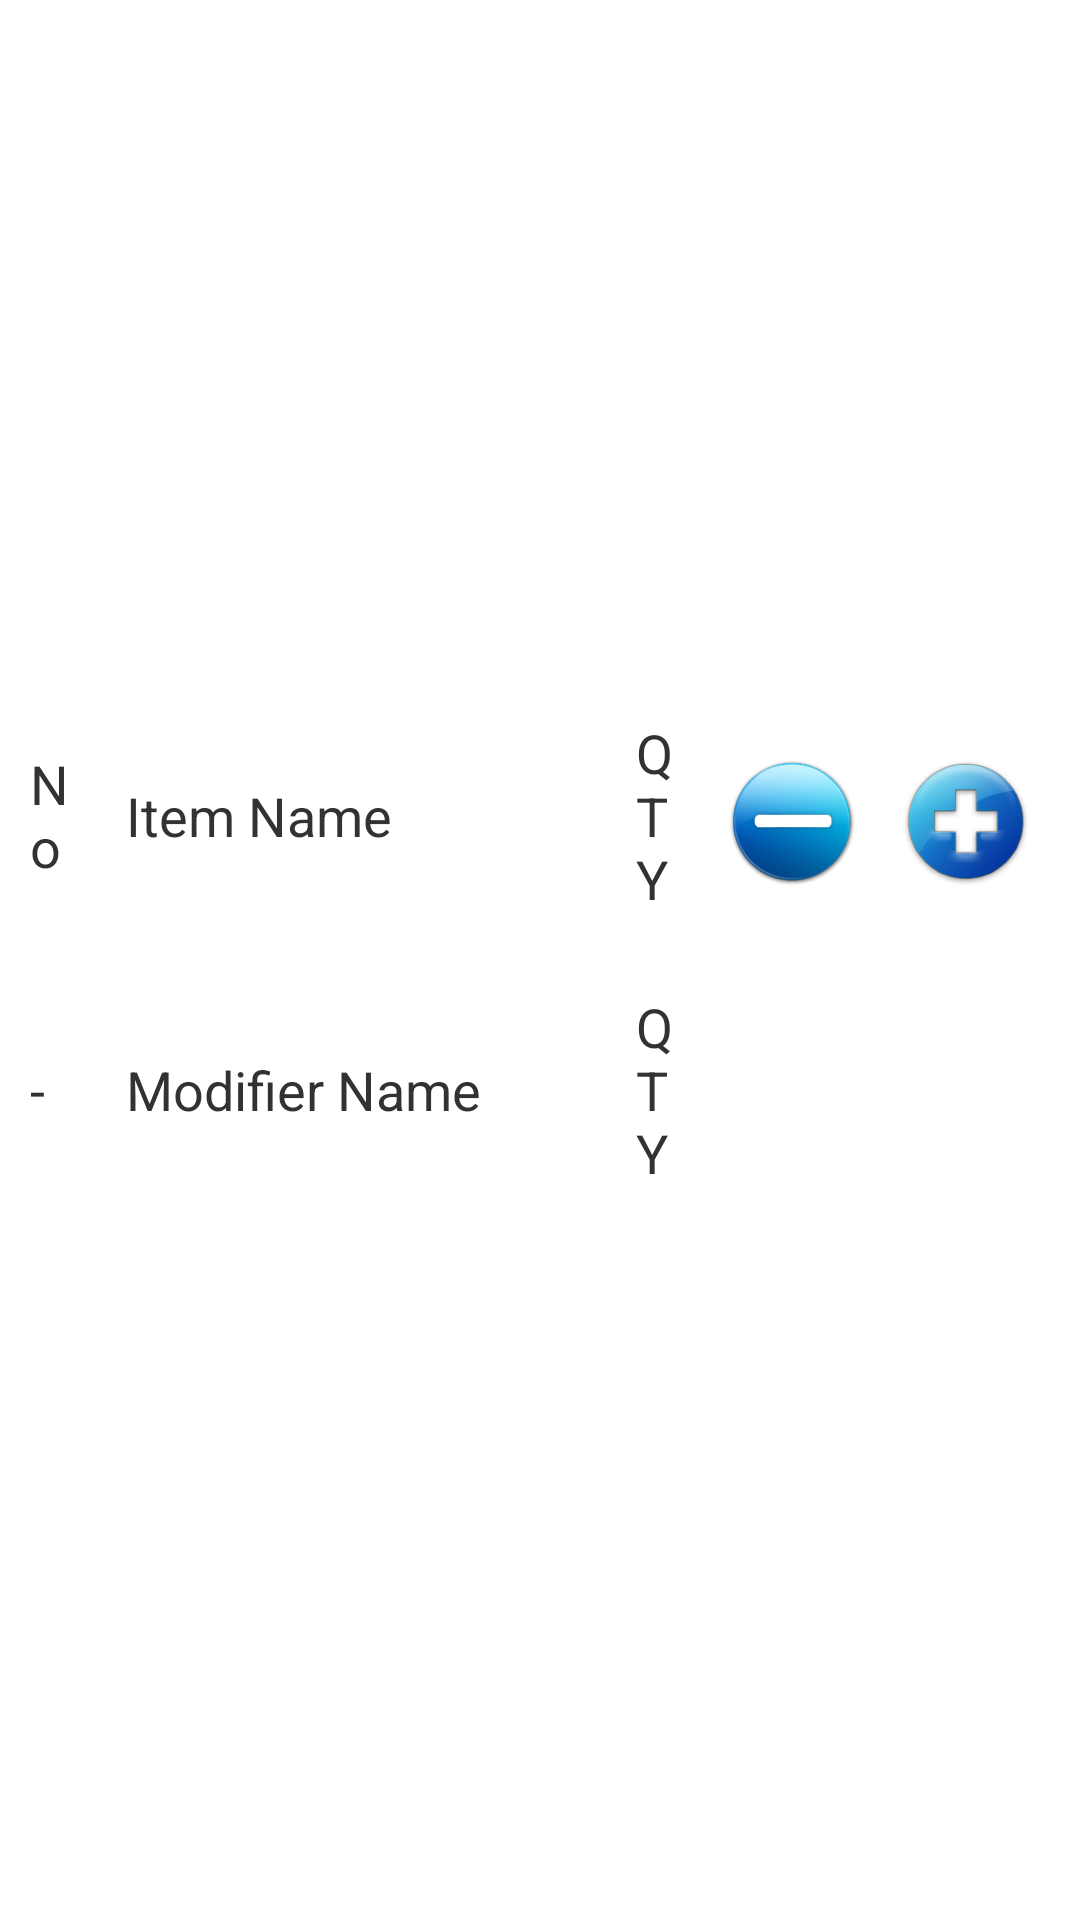

Icon bounding boxes for this 1080x1920 phone screenshot, format [x1, y1, x2, y2]:
add: [907, 763, 1025, 882]
reduce: [731, 762, 853, 884]
